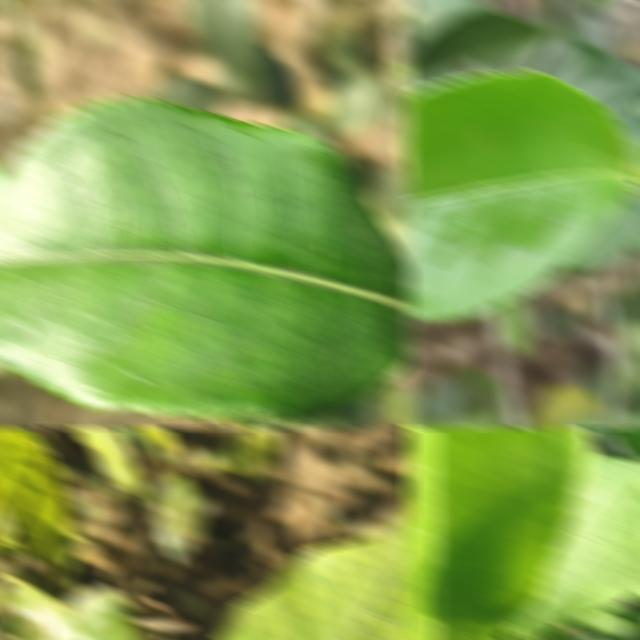Leaf: (0, 96, 412, 421), (406, 70, 640, 321), (406, 427, 591, 640), (510, 455, 640, 640), (0, 427, 82, 588), (406, 8, 561, 91), (4, 574, 141, 640), (179, 0, 266, 98), (71, 427, 147, 503), (152, 472, 214, 563), (223, 427, 284, 482), (497, 295, 535, 355), (136, 427, 175, 461)
